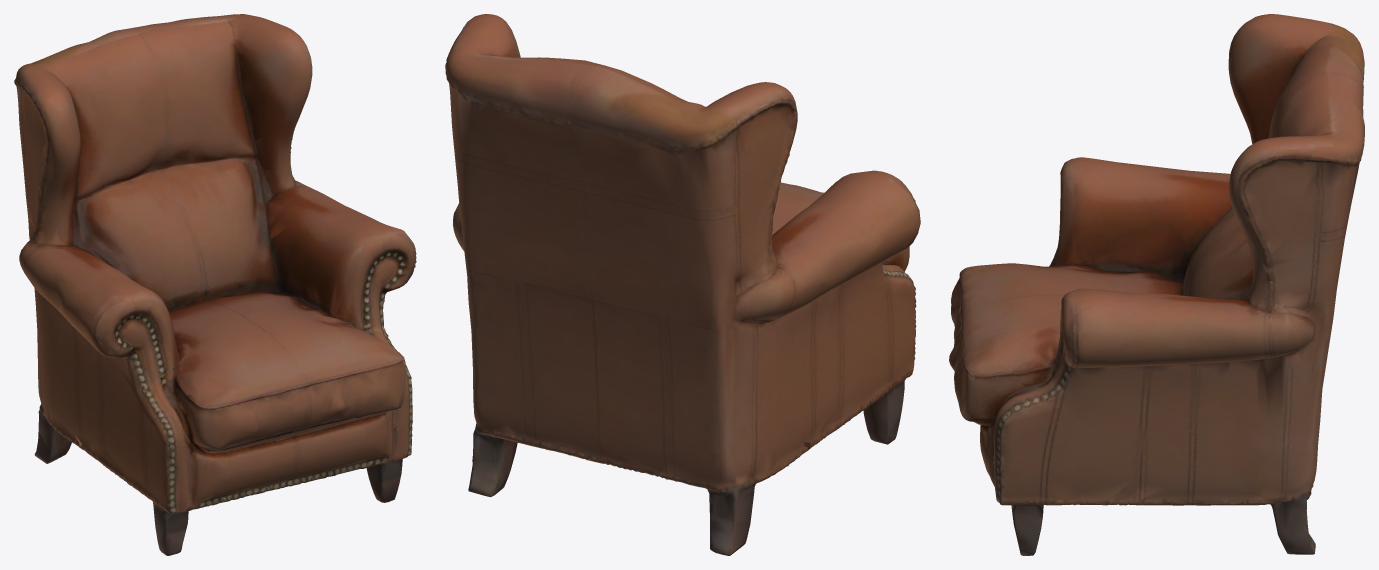
File: smoke-armchair-cognac.glb
3 views of the same model, side by side, from view 1: azimuth 30°, elevation 25°; view 2: azimuth 150°, elevation 25°; view 3: azimuth 270°, elevation 25° (orthographic). The views are drawn at different scales.
Bounding box in the file's own units: 1.73 × 2 × 1.78.
Materials: 1 (1 with a texture image).
